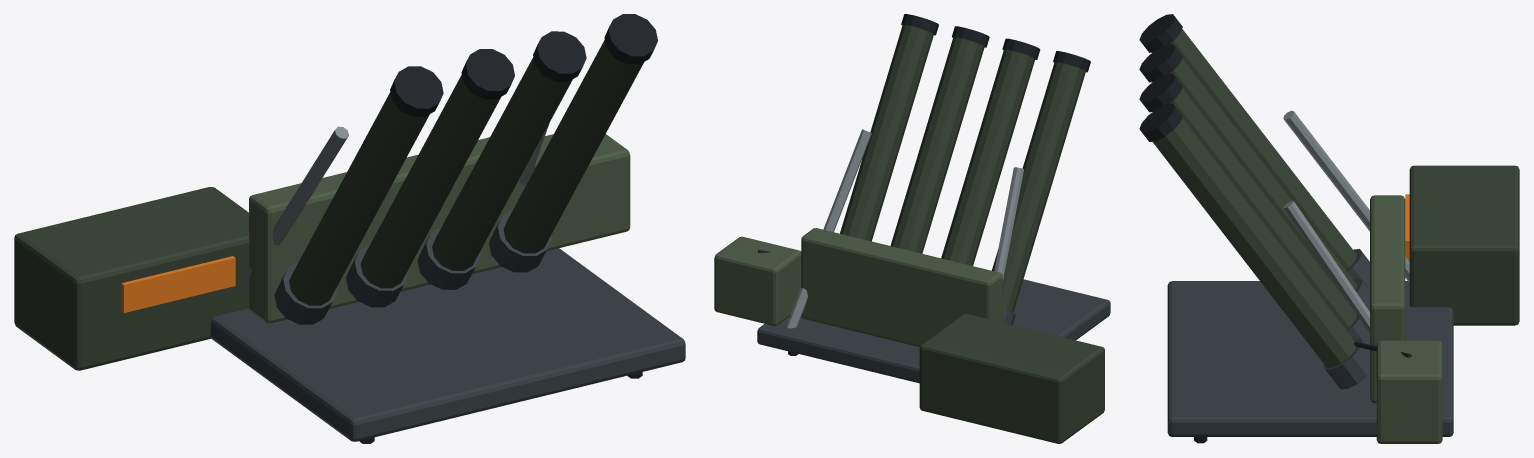
File: sns_flare.glb
The picture shows the model from 3 angles, left to right: view 1: azimuth 30°, elevation 25°; view 2: azimuth 150°, elevation 25°; view 3: azimuth 270°, elevation 25°; orthographic projection. The views are drawn at different scales.
Parts seen in each view (by area): view 1: SNS_FLARE; view 2: SNS_FLARE; view 3: SNS_FLARE.
Boxes of the visible parts, x1,y1,x2,y2 form: SNS_FLARE: (14, 14, 685, 443); SNS_FLARE: (714, 14, 1110, 443); SNS_FLARE: (1139, 14, 1519, 443).
Bounding box in the file's own units: 2.4 × 1.62 × 1.73.
